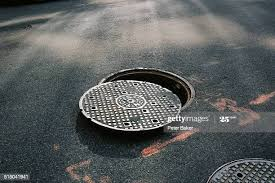Manhole-Open: (100, 58, 202, 112)
